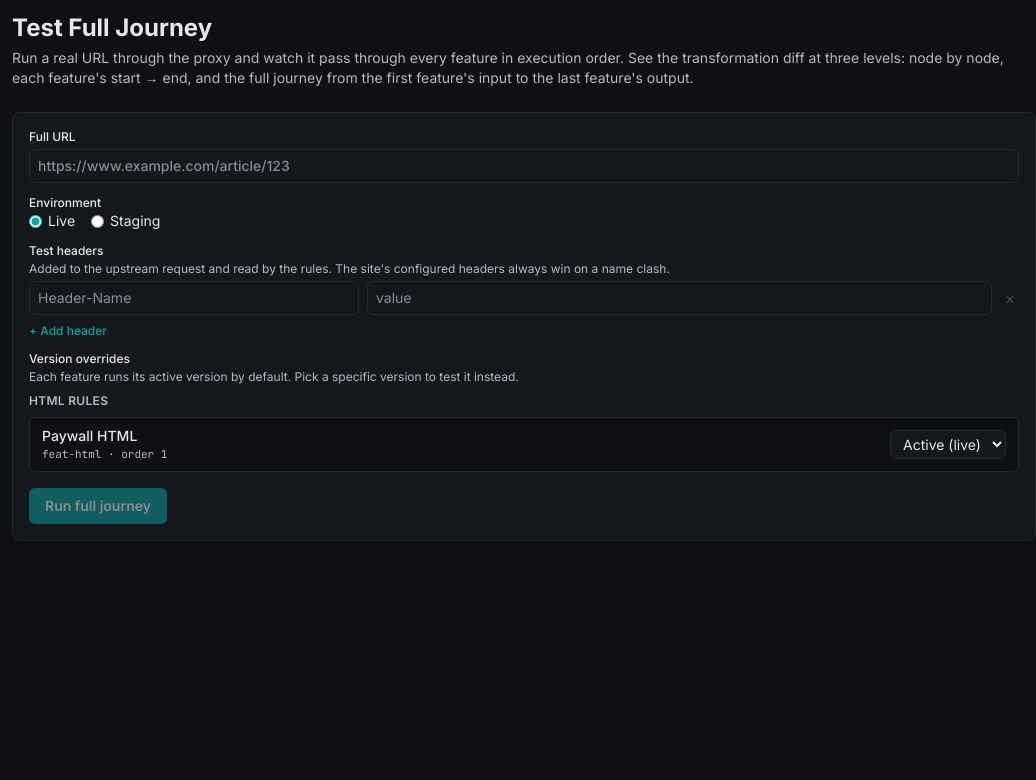
FullJourneyClient › disables Run until a URL is entered
Expected: the button "Run full journey" is disabled, [29, 488, 167, 524]
In the field labelled "Full URL": (524, 166) [29, 149, 1019, 183], type "https://x.test/a"
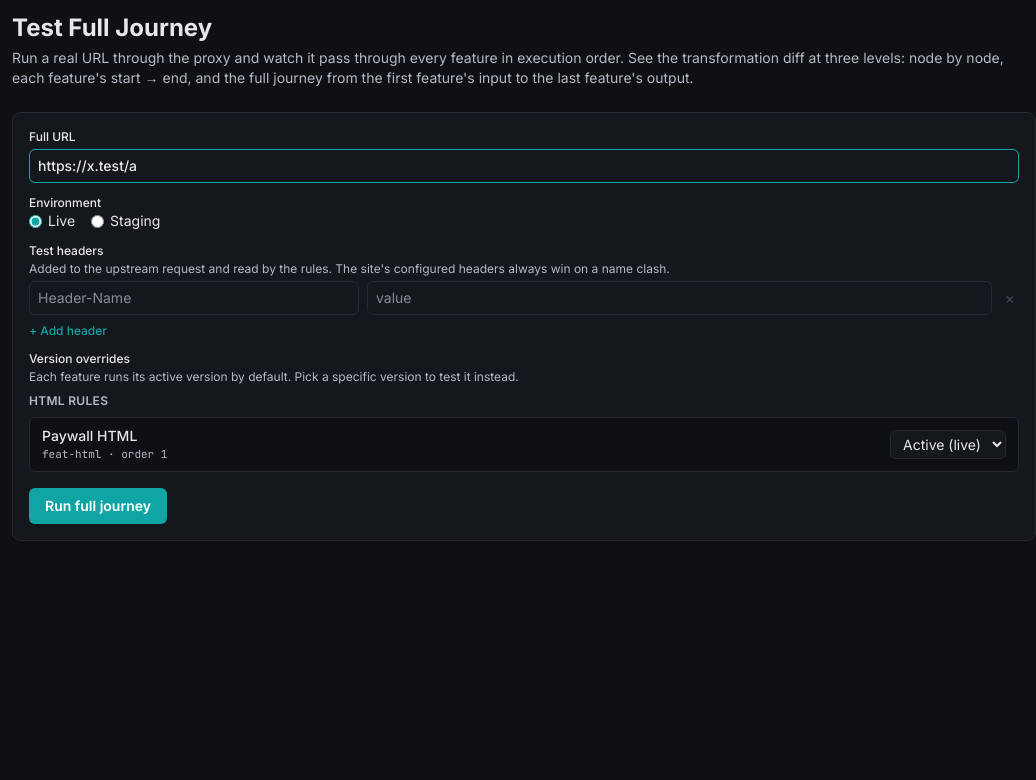
Now the button "Run full journey" is enabled, box [29, 488, 167, 524]
